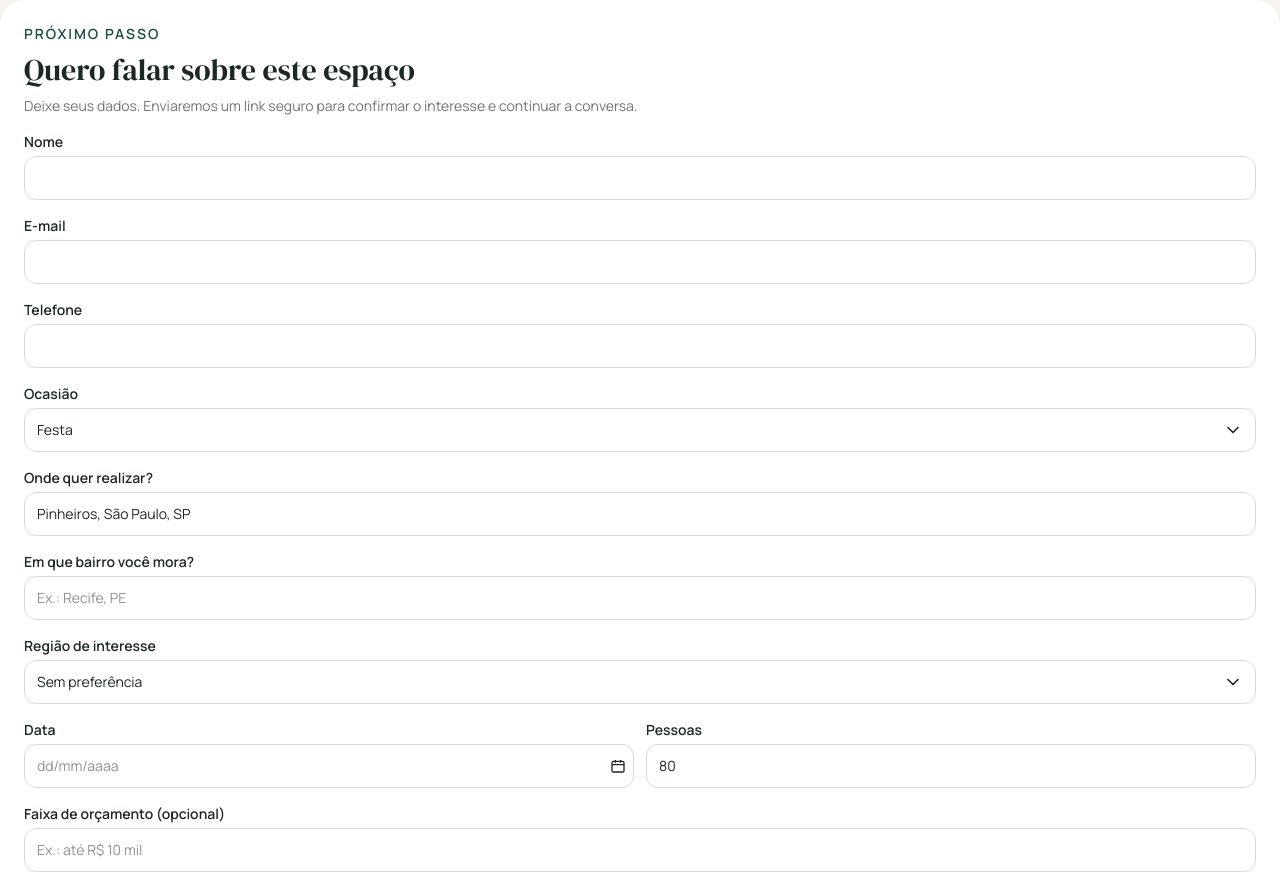
confirms the request when the magic link is sent
The image size is (1280, 889).
Type "Ana Souza" into the field labelled "Nome" at (640, 178), box [24,156,1256,200]
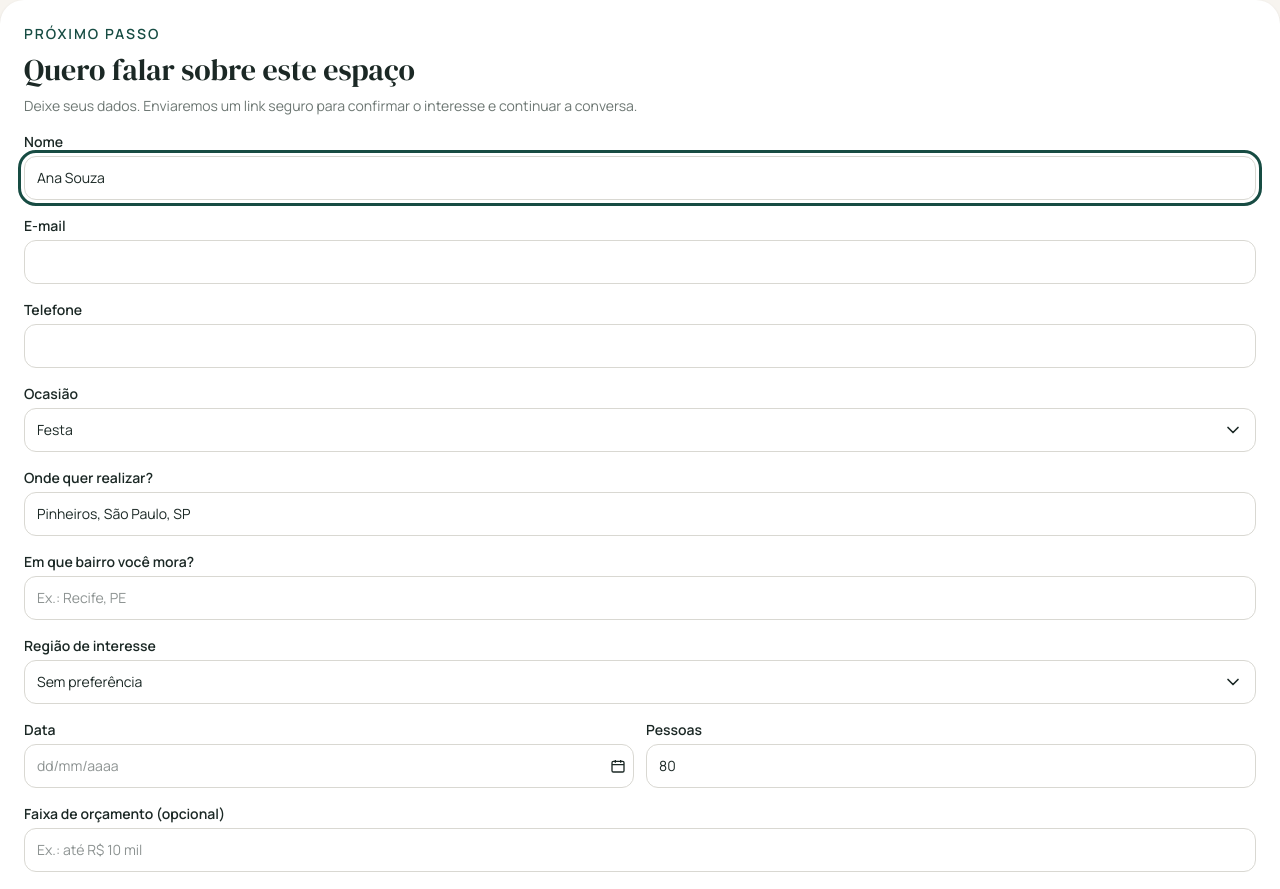
Type "ana@example.com" into the field labelled "E-mail" at (640, 262), box [24,240,1256,284]
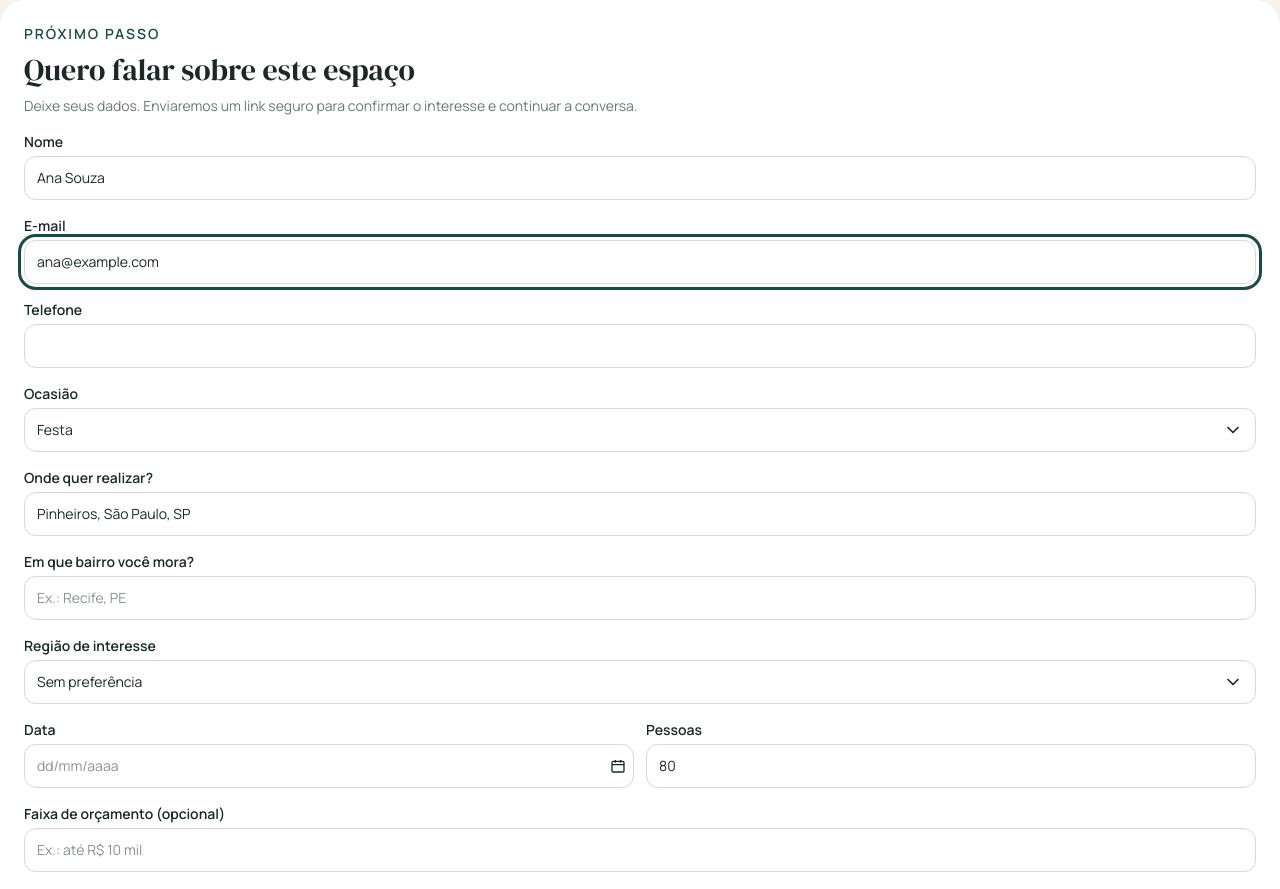
Type "11999999999" into the field labelled "Telefone" at (640, 346), box [24,324,1256,368]
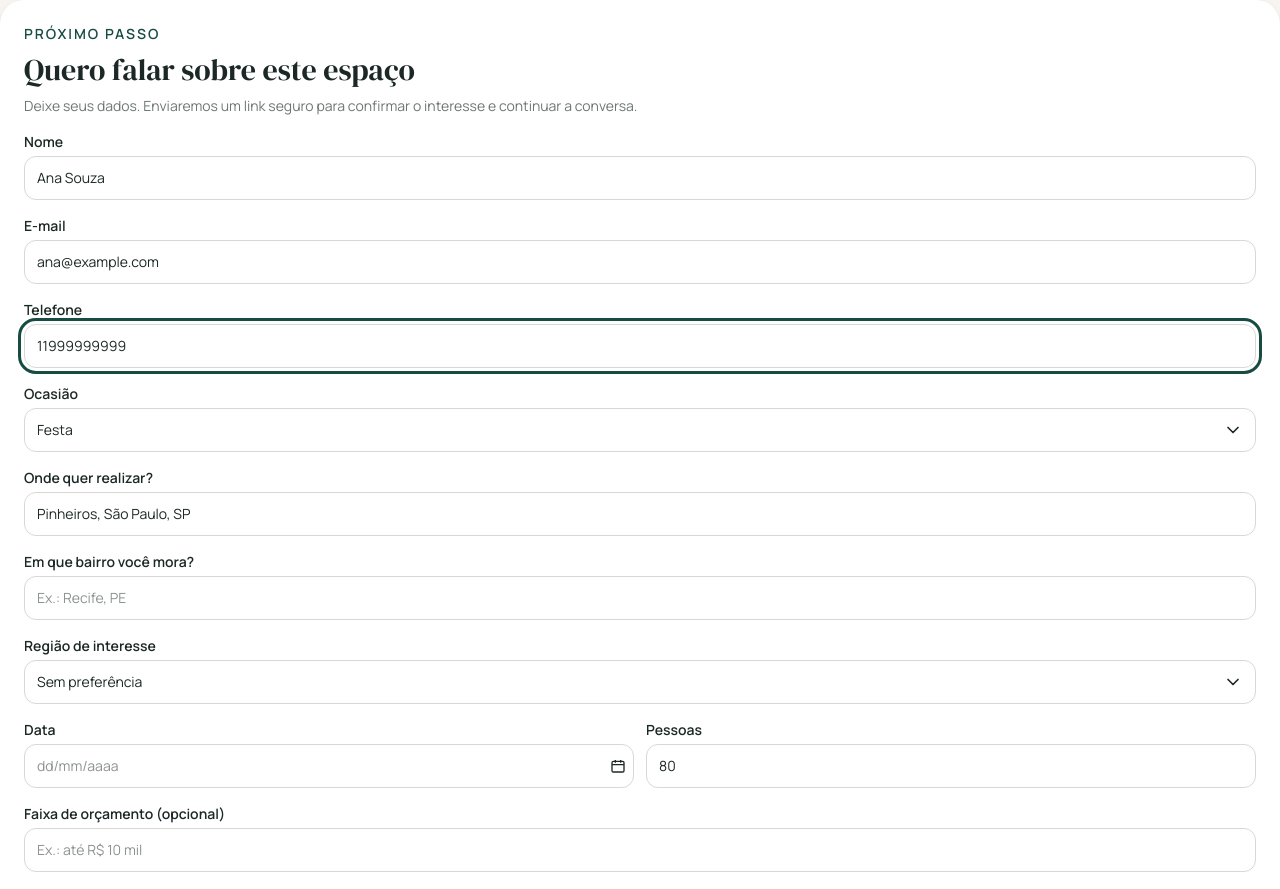
Type "Moema" into the field labelled "Em que bairro você mora?" at (640, 598), box [24,576,1256,620]
(page scrolled)
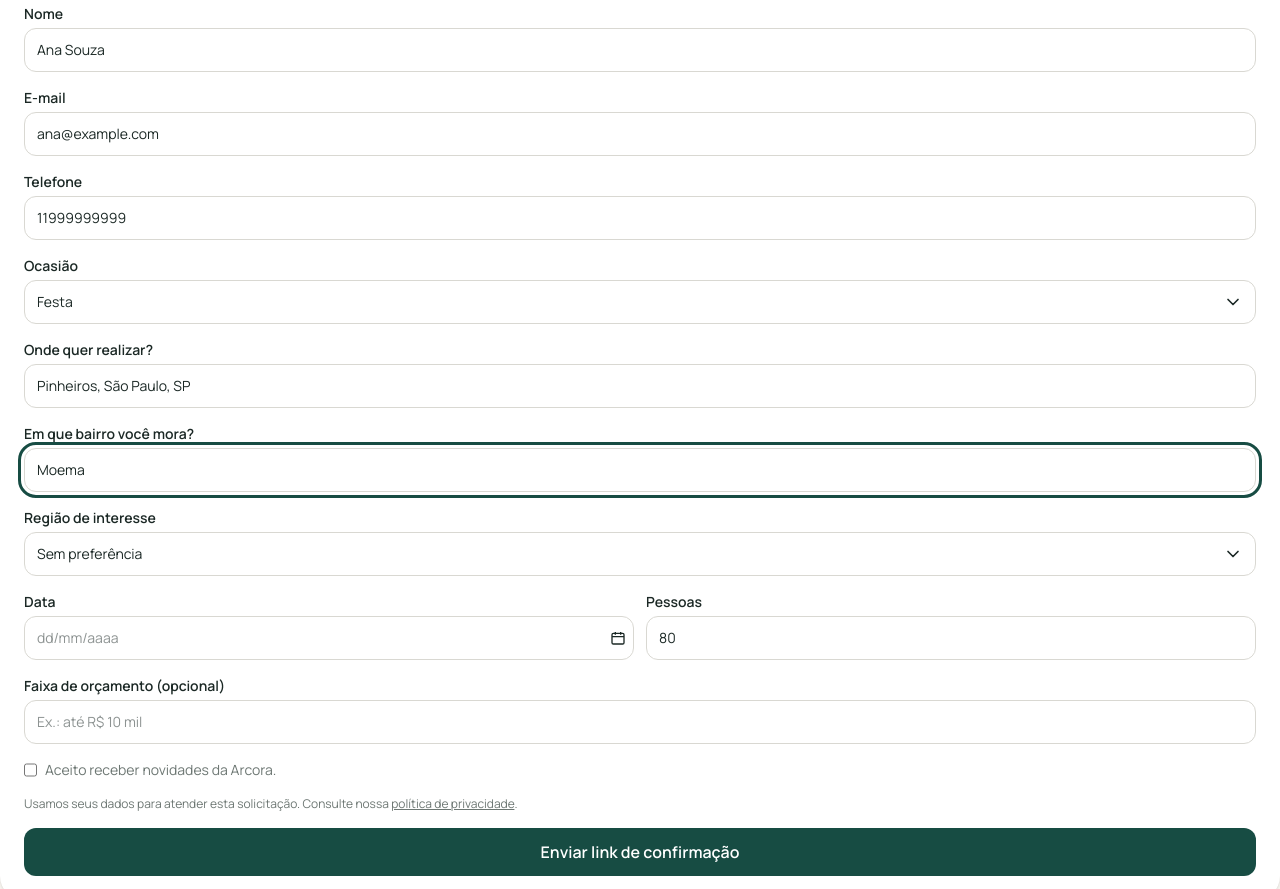
Click the button "Enviar link de confirmação" at (640, 852), box [24,828,1256,876]
(page scrolled)
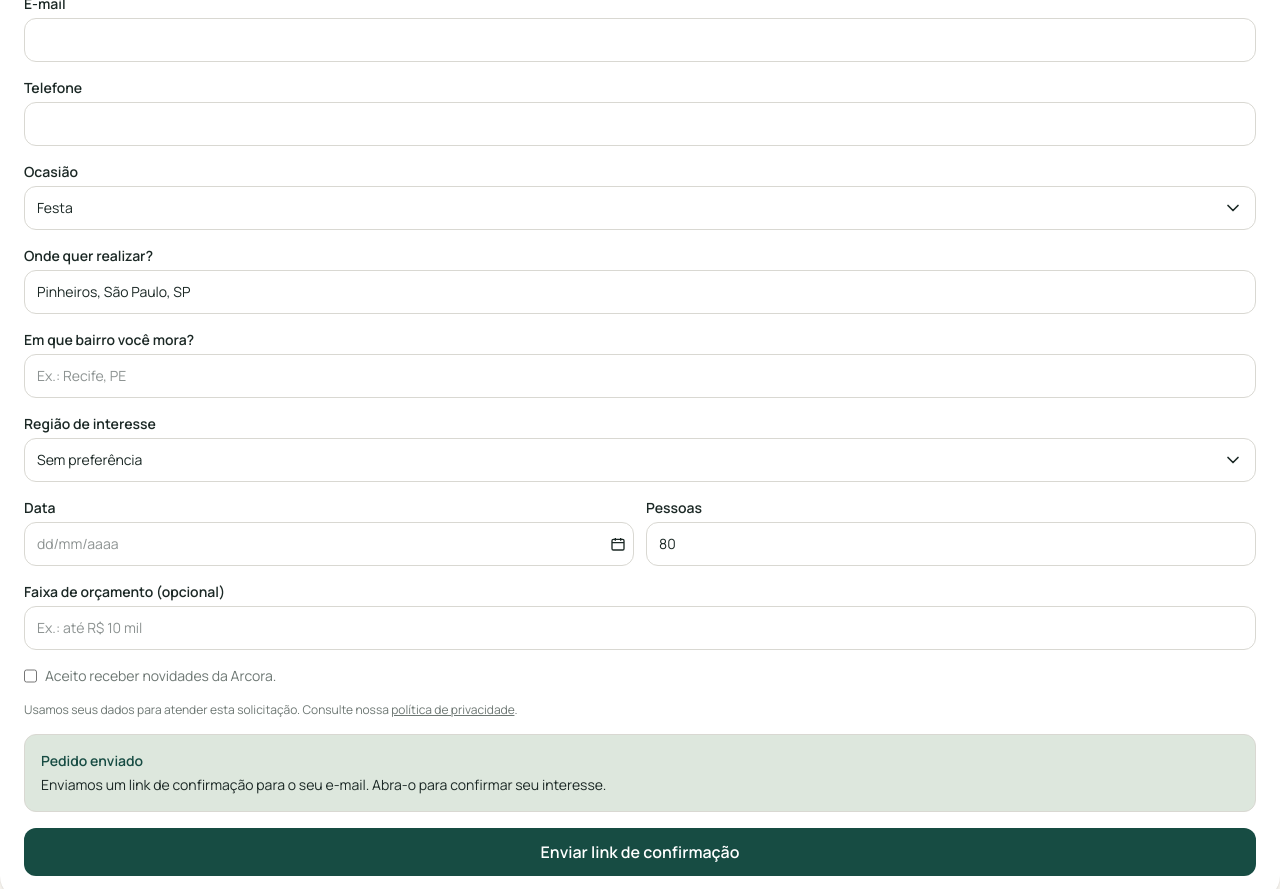
Expected: the message does not show "Não conseguimos conectar ao atendimento", [24,734,1256,812]
Result: the message shows "Pedido enviado" at [41,751,143,770]
Result: the message shows "Enviamos um link de confirmação para o seu e-mail." at [41,775,606,794]
